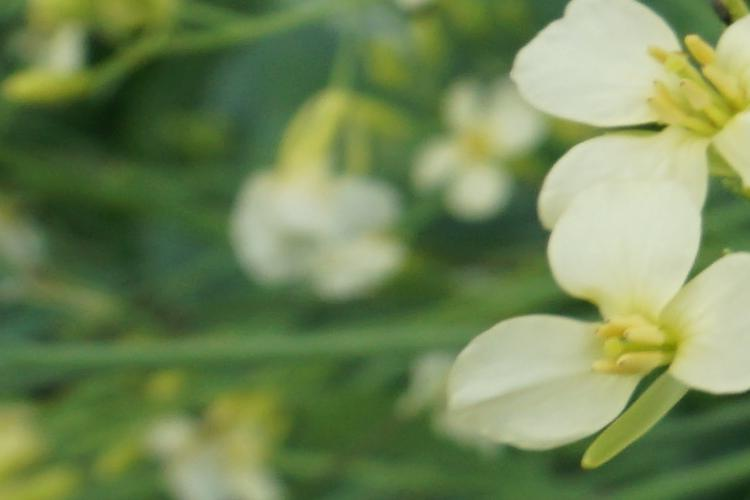white: (461, 180, 748, 433), (519, 10, 750, 218), (256, 162, 414, 292), (423, 85, 533, 212)
